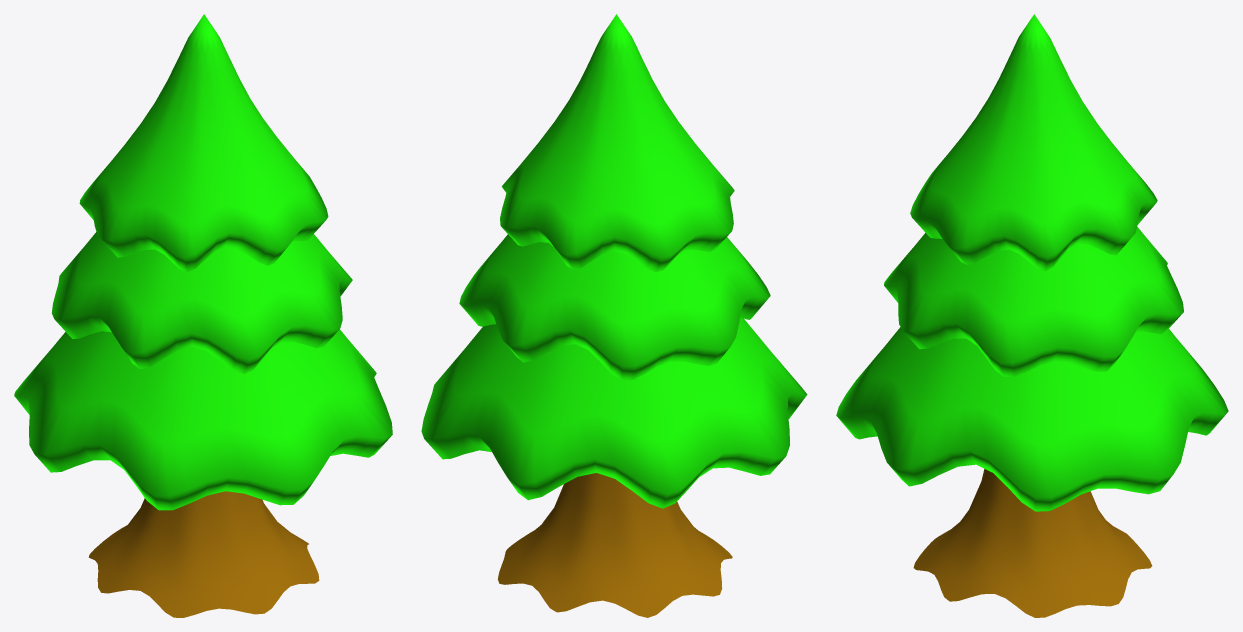
The model's file is pine1.fbx.
3 renders of one model, left to right at view 1: azimuth 30°, elevation 25°; view 2: azimuth 150°, elevation 25°; view 3: azimuth 270°, elevation 25°, orthographic.
Visible parts, largest first — view 1: pine2; view 2: pine2; view 3: pine2.
Boxes of the visible parts, x1=… form: pine2: x1=14, y1=14, x2=392, y2=617; pine2: x1=421, y1=14, x2=807, y2=617; pine2: x1=836, y1=14, x2=1228, y2=617.
Size of the model in its own units: 135 by 210 by 135.
